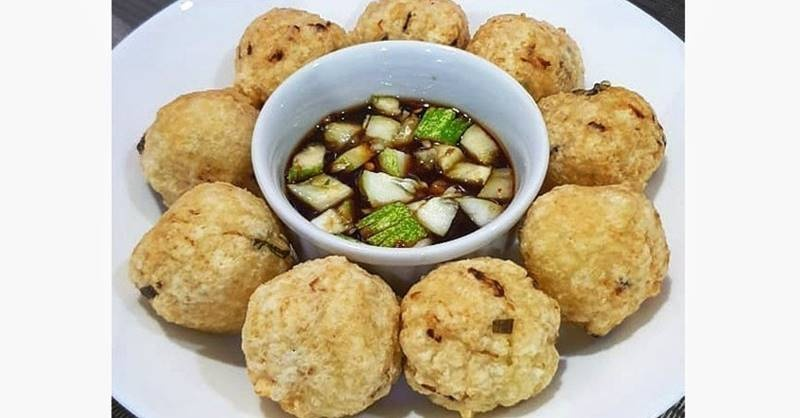pempek: (111, 15, 693, 401)
